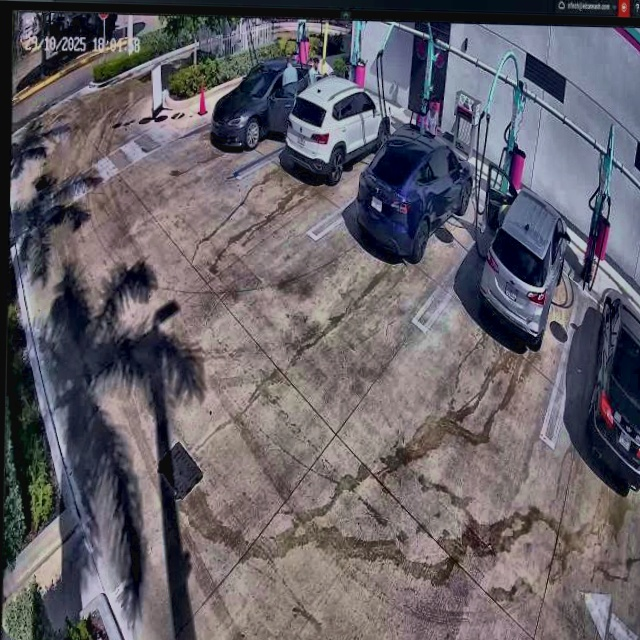Car: (358, 121, 474, 258), (477, 160, 562, 345), (282, 71, 393, 185), (212, 58, 318, 154)
